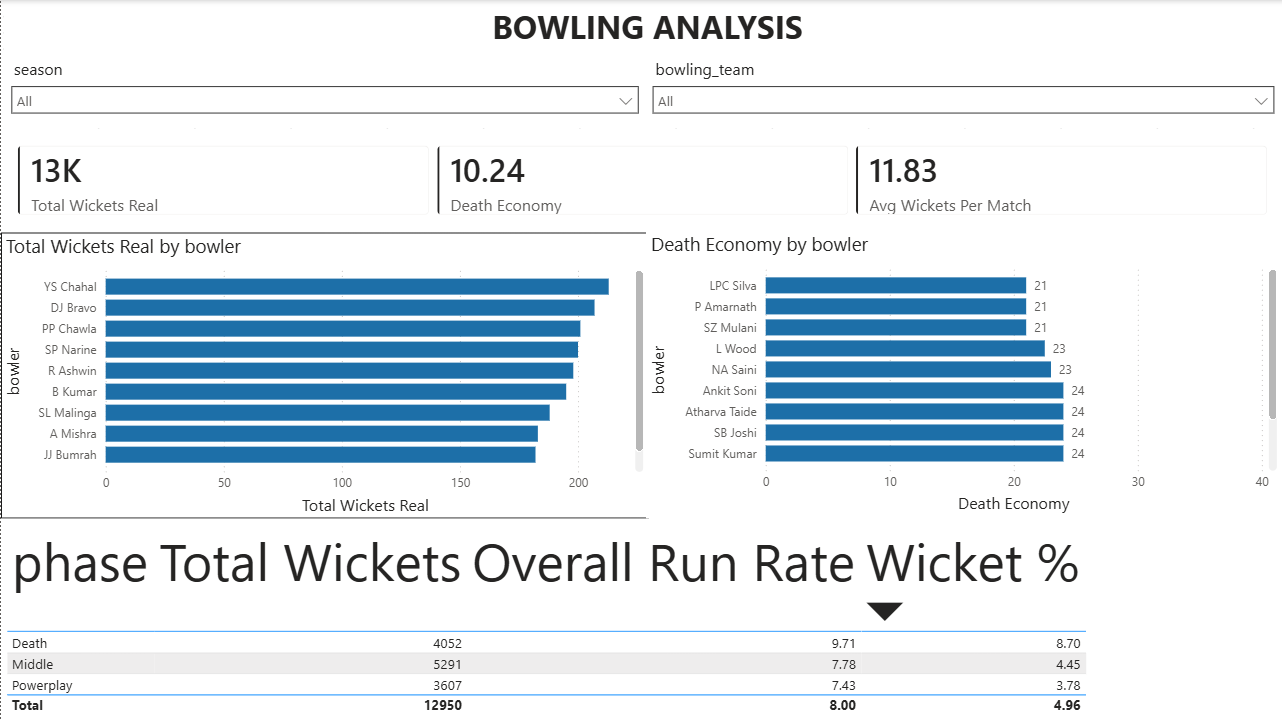

This screenshot's page, from the dashboard's own definition file:
{"tool":"powerbi","page":{"name":"Page 3","canvas":[1280,720],"ordinal":2},"visuals":[{"type":"textbox","box":[10.2,0,1269.8,52.4],"z":0},{"type":"slicer","fields":{"Values":["deliveries.season"]},"box":[0,52.4,645.8,75.6],"z":1000},{"type":"slicer","fields":{"Values":["deliveries.bowling_team"]},"box":[640,52.4,640,75.6],"z":2000},{"type":"cardVisual","fields":{"Data":["batsman_stats.Total Wickets Real","batsman_stats.Death Economy","batsman_stats.Avg Wickets Per Match"]},"box":[0,128,1280,103.3],"z":3000},{"type":"clusteredBarChart","fields":{"Category":["deliveries.bowler"],"Y":["batsman_stats.Total Wickets Real"]},"box":[0,231.3,645.8,286.5],"z":4000},{"type":"clusteredBarChart","fields":{"Category":["deliveries.bowler"],"Y":["batsman_stats.Death Economy1"]},"box":[642.8,231,634.4,286.6],"z":5000},{"type":"tableEx","fields":{"Values":["deliveries.phase","batsman_stats.Total Wickets","batsman_stats.Overall Run Rate","batsman_stats.Wicket %"]},"box":[0,517.6,1280,203.1],"z":6000}]}

Visuals, with their boxes in screenshot pixels (x1, y1, x2, y2), scaled from the page's 1280x720 canvas onto the 1282x720 screenshot:
textbox: 10,0,1281,52
slicer - deliveries.season: 0,52,647,128
slicer - deliveries.bowling_team: 641,52,1281,128
cardVisual - batsman_stats.Total Wickets Real x batsman_stats.Death Economy: 0,128,1281,231
clusteredBarChart - deliveries.bowler x batsman_stats.Total Wickets Real: 0,231,647,518
clusteredBarChart - deliveries.bowler x batsman_stats.Death Economy1: 644,231,1279,518
tableEx - deliveries.phase x batsman_stats.Total Wickets: 0,518,1281,719
